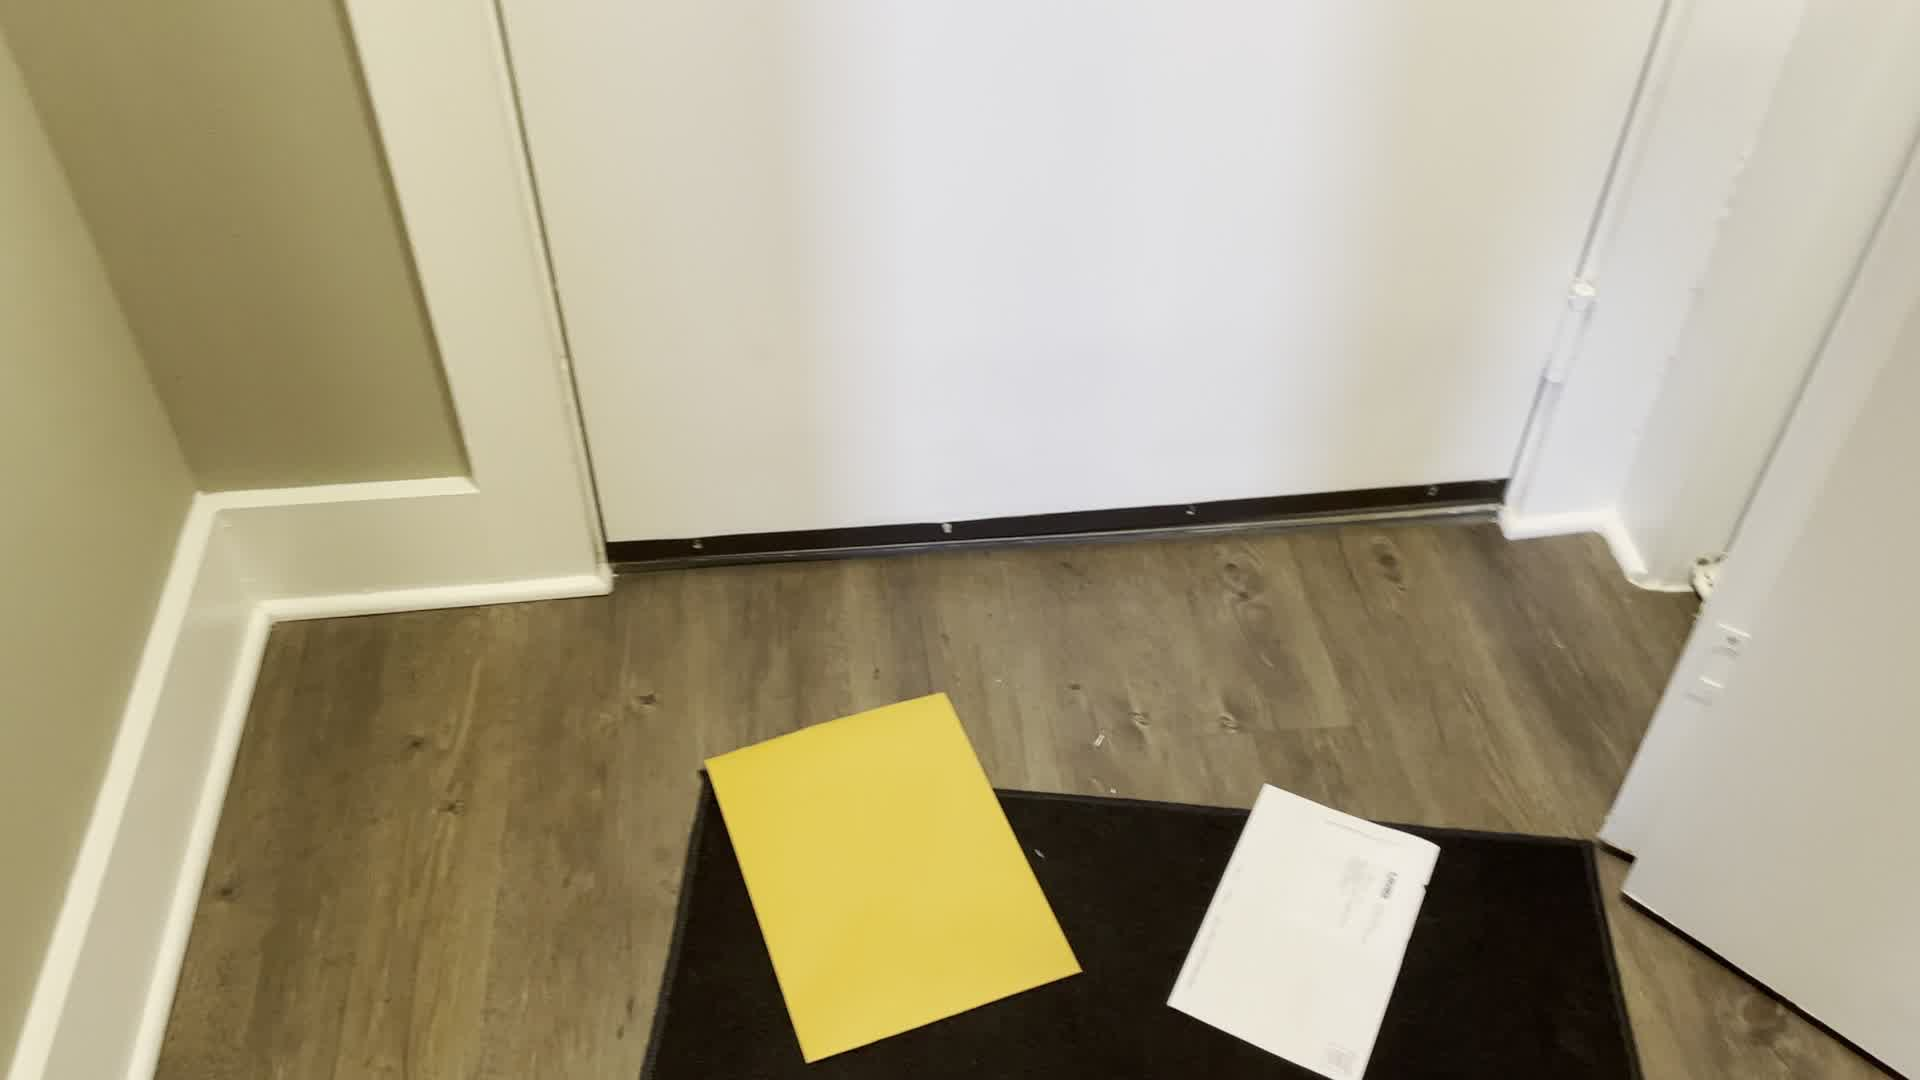envelope: (692, 683, 1079, 1069), (1163, 767, 1447, 1080)
